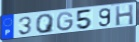3: (18, 16, 33, 35)
5: (76, 8, 95, 30)
9: (98, 7, 112, 27)
G: (56, 11, 75, 32)
H: (115, 3, 135, 27)
Q: (35, 13, 56, 34)
